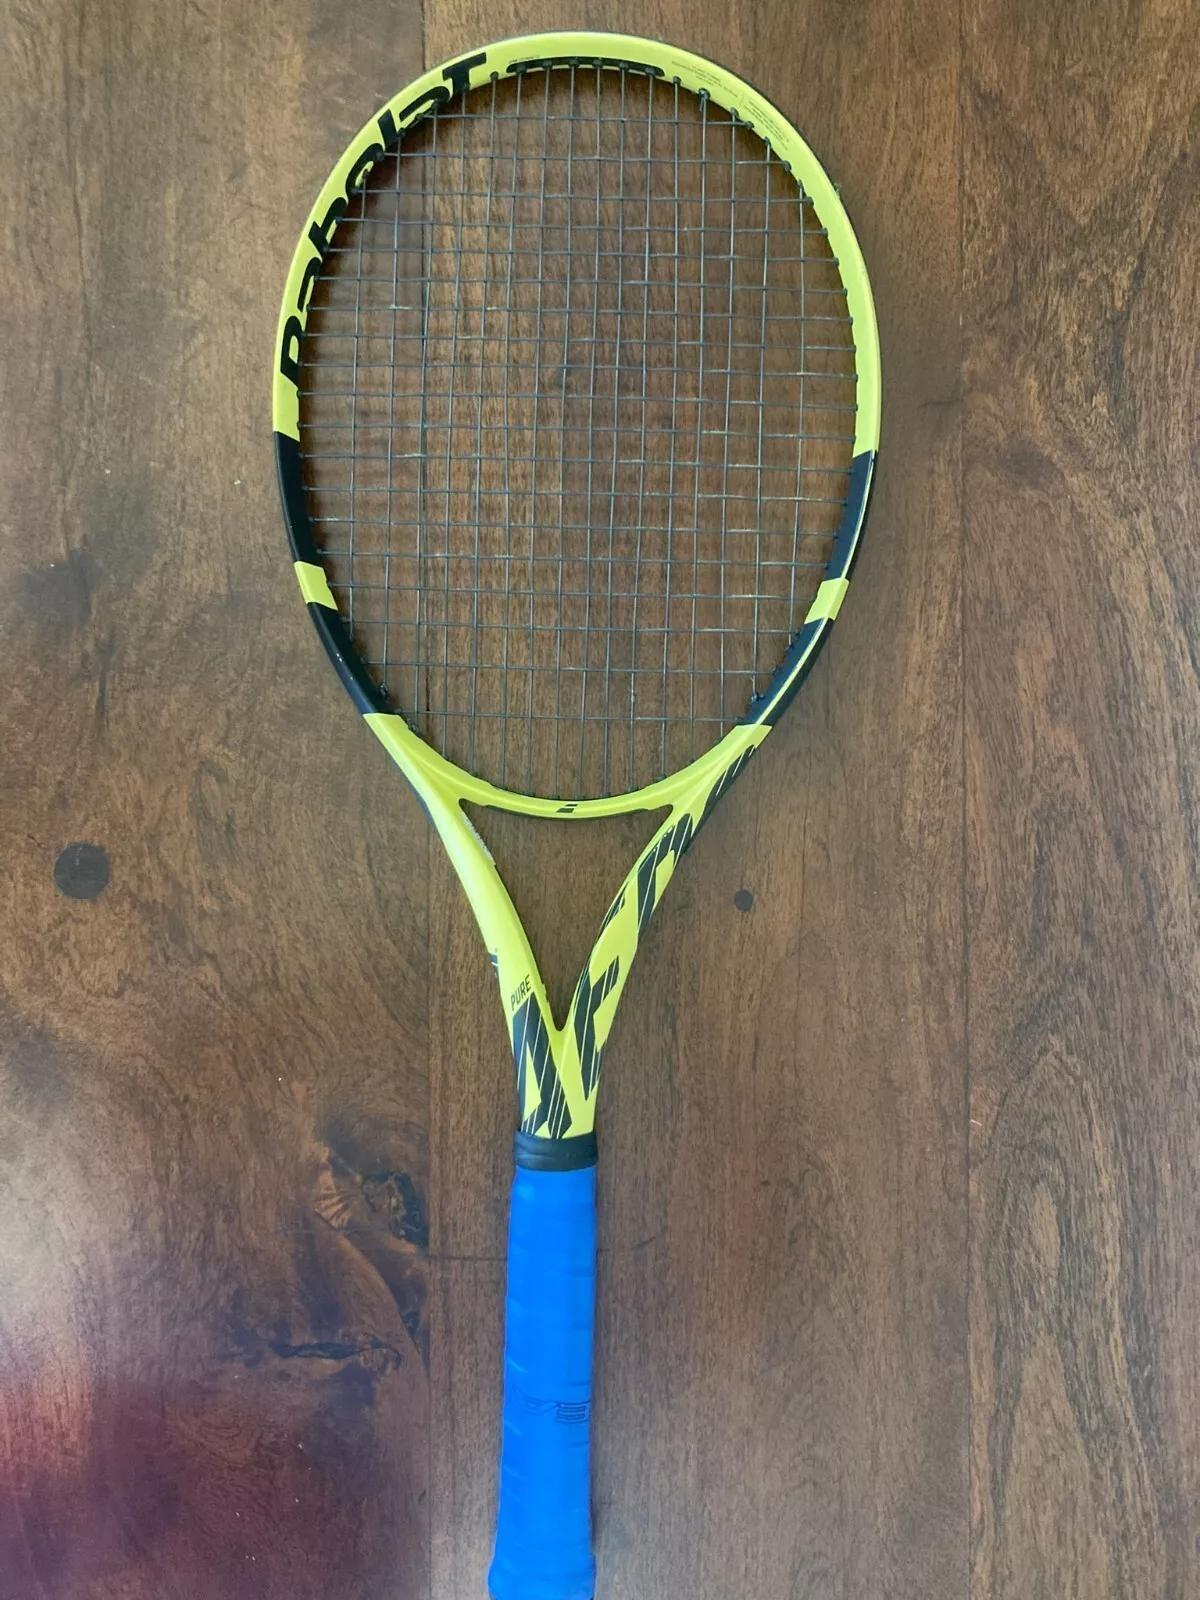Tennis-Racket: (272, 31, 881, 1600)
